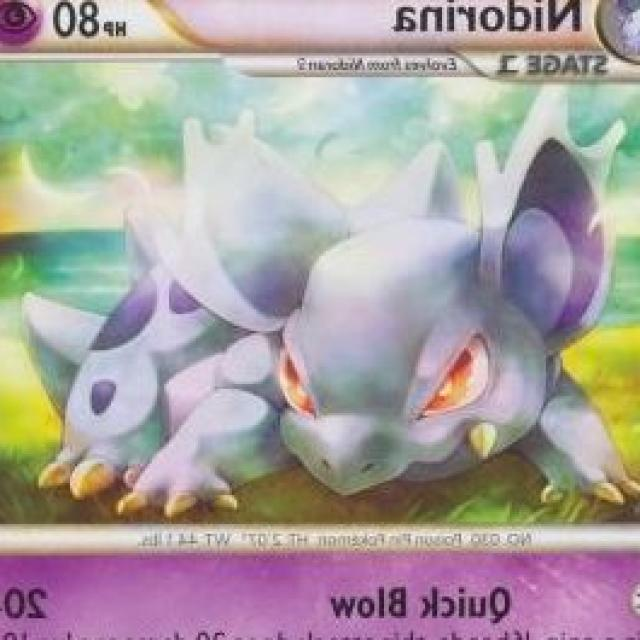Nidorina: (90, 154, 589, 493)
